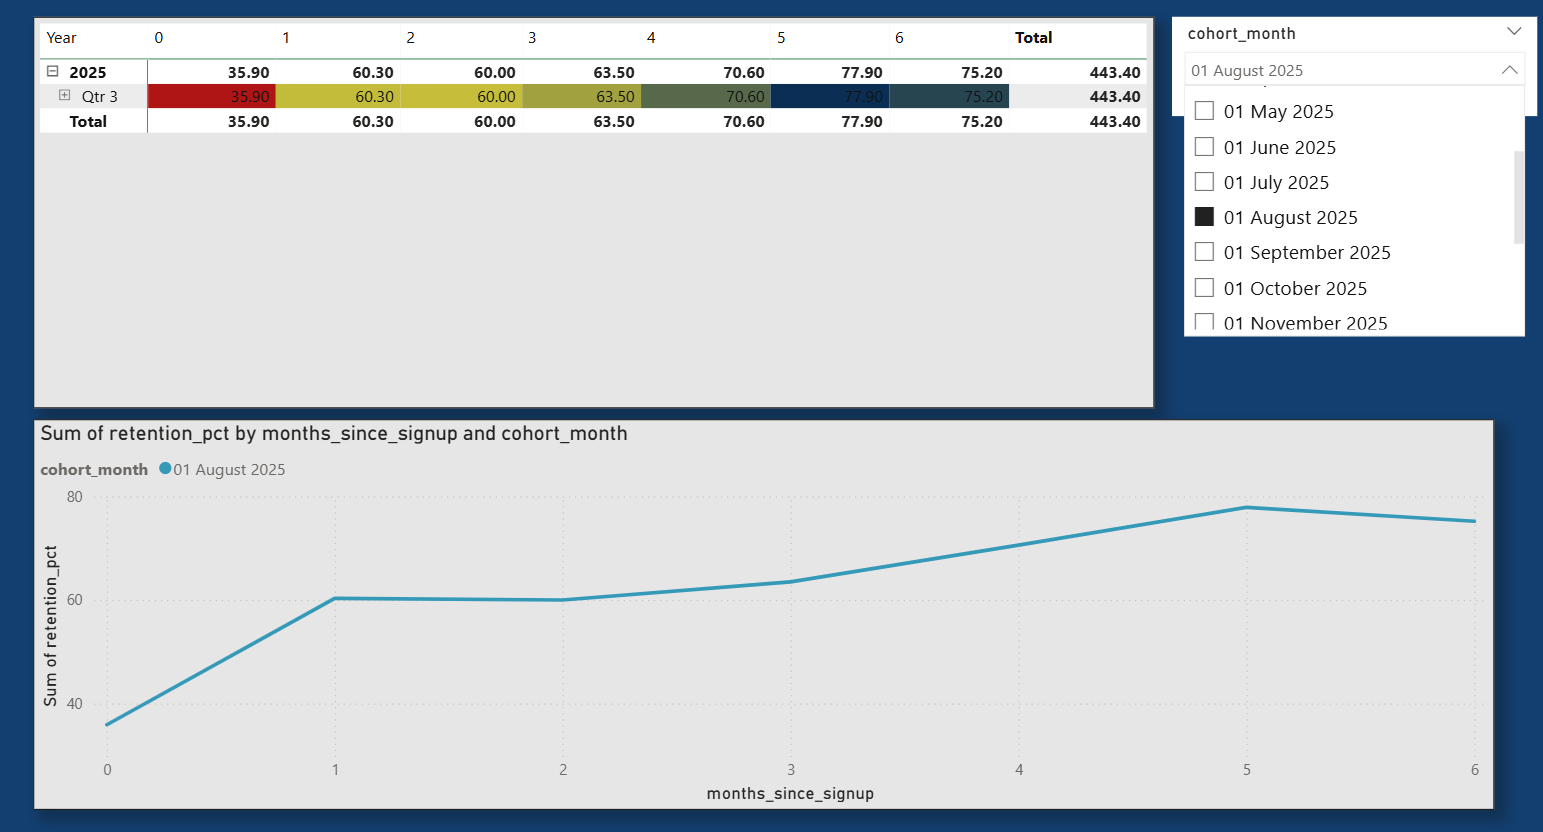

The dashboard page shown, as its layout file describes it:
{"tool":"powerbi","page":{"name":"Cohort & Retention","canvas":[1280,720],"ordinal":1},"visuals":[{"type":"pivotTable","fields":{"Rows":["cohort_retention.cohort_month.Variation.Date Hierarchy.Year","cohort_retention.cohort_month.Variation.Date Hierarchy.Quarter","cohort_retention.cohort_month.Variation.Date Hierarchy.Month","cohort_retention.cohort_month.Variation.Date Hierarchy.Day"],"Columns":["cohort_retention.months_since_signup"],"Values":["Sum(cohort_retention.retention_pct)"]},"box":[30.2,19.8,639.5,320.9],"z":0},{"type":"lineChart","fields":{"Category":["cohort_retention.months_since_signup"],"Y":["Sum(cohort_retention.retention_pct)"],"Series":["cohort_retention.cohort_month"]},"box":[30.2,350,1200,320.9],"z":1000},{"type":"slicer","fields":{"Values":["cohort_retention.cohort_month"]},"box":[965.1,19.8,300,81.4],"z":2000}]}

Visuals, with their boxes on the page's 1280x720 design canvas (x1, y1, x2, y2). These are canvas units, not pixel positions in the 1543x832 screenshot, which may show the page scaled, cropped or inside an application window:
pivotTable - cohort_retention.cohort_month.Variation.Date Hierarchy.Year x cohort_retention.cohort_month.Variation.Date Hierarchy.Quarter: [x1=30, y1=20, x2=670, y2=341]
lineChart - cohort_retention.months_since_signup x Sum(cohort_retention.retention_pct): [x1=30, y1=350, x2=1230, y2=671]
slicer - cohort_retention.cohort_month: [x1=965, y1=20, x2=1265, y2=101]
